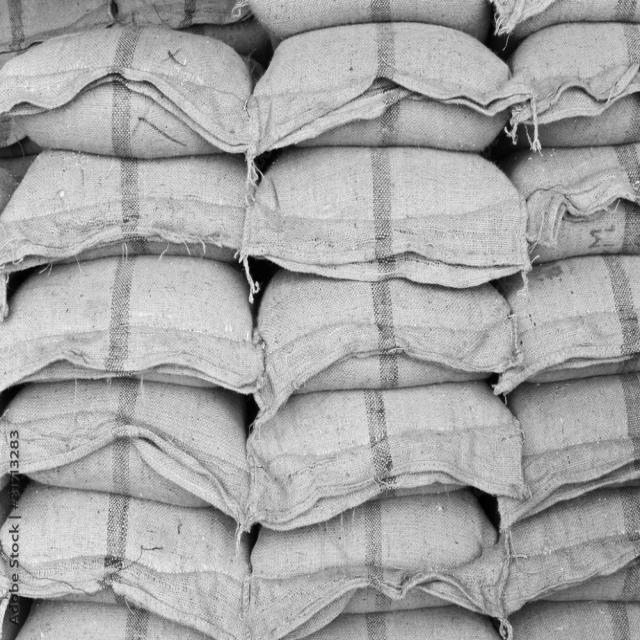sack: (247, 381, 525, 527), (240, 148, 527, 287), (1, 482, 248, 638), (251, 269, 514, 413), (247, 490, 498, 640), (1, 380, 247, 529), (1, 254, 263, 392), (249, 21, 513, 153), (1, 25, 251, 159), (1, 147, 250, 273), (498, 370, 640, 531), (494, 253, 640, 400), (496, 486, 640, 618), (509, 21, 640, 147), (510, 142, 640, 267)
